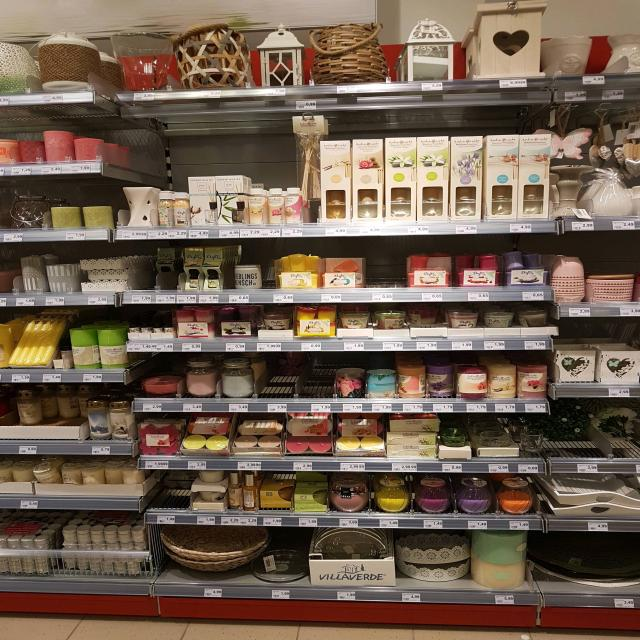empty: (253, 347, 338, 401), (144, 470, 191, 521), (366, 241, 406, 290)
